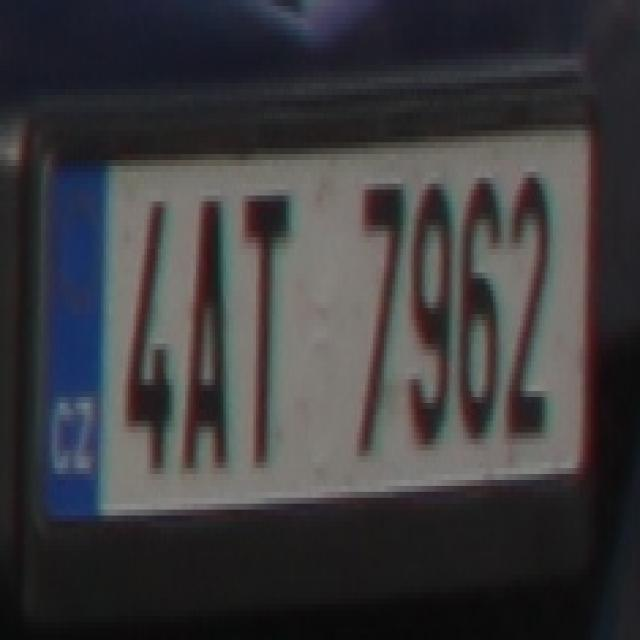2: (504, 166, 553, 444)
4: (123, 190, 177, 468)
6: (452, 178, 501, 450)
7: (352, 172, 401, 468)
9: (406, 178, 449, 456)
A: (177, 190, 229, 474)
T: (240, 196, 291, 480)
